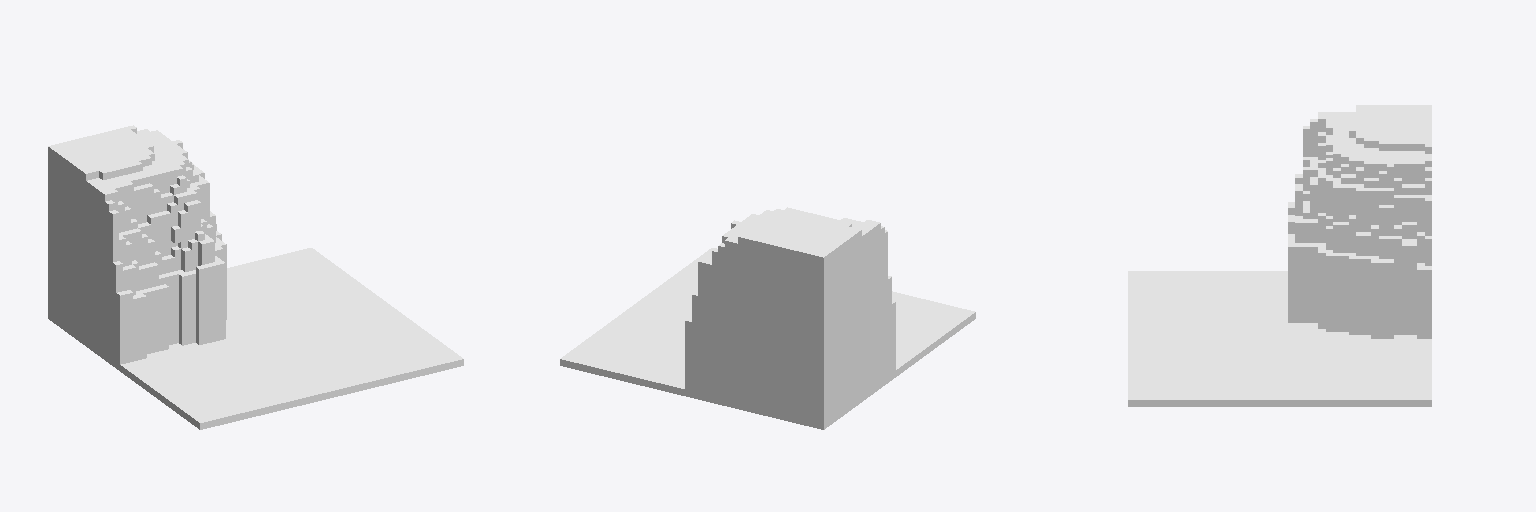
File: tile-quartermountain-3.obj
3 renders of one model, left to right at view 1: azimuth 30°, elevation 25°; view 2: azimuth 150°, elevation 25°; view 3: azimuth 270°, elevation 25°, orthographic.
Visible parts, largest first — view 1: tile-quartermountain-3; view 2: tile-quartermountain-3; view 3: tile-quartermountain-3.
Part boxes in pixels (bbox=[...]): tile-quartermountain-3: bbox=[48, 125, 463, 429]; tile-quartermountain-3: bbox=[560, 207, 975, 429]; tile-quartermountain-3: bbox=[1128, 105, 1431, 406].
Bounding box in the file's own units: 40 × 25 × 40.